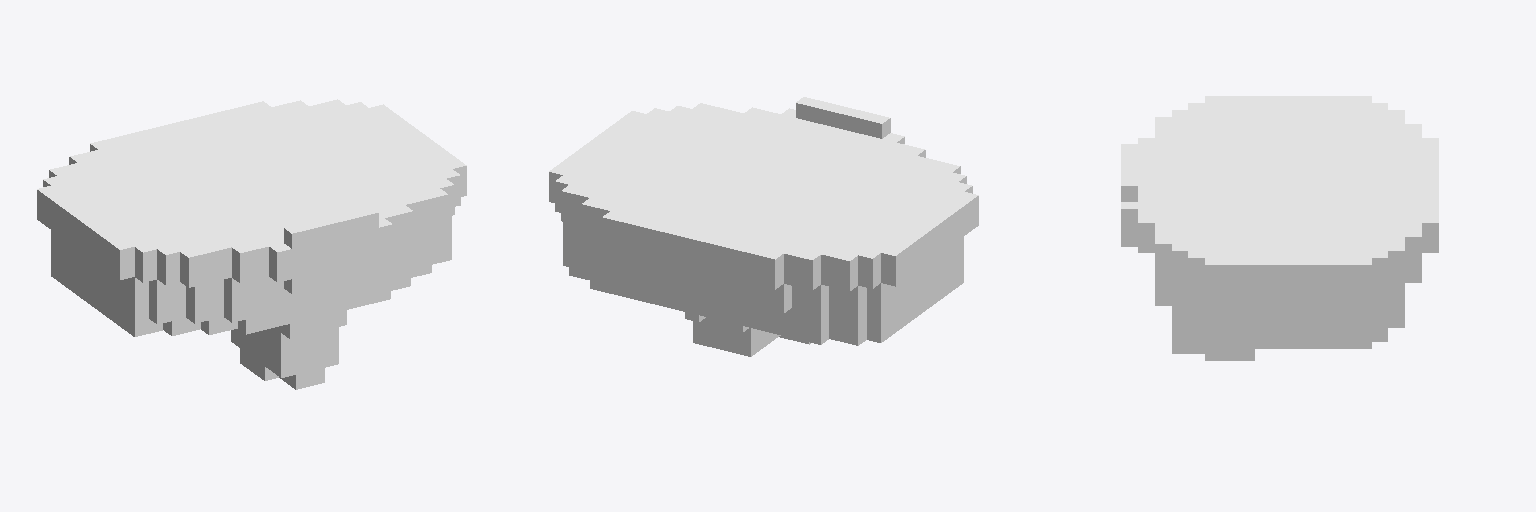
File: Minotaur1-1.obj
3 views of the same model, side by side, from view 1: azimuth 30°, elevation 25°; view 2: azimuth 150°, elevation 25°; view 3: azimuth 270°, elevation 25° (orthographic).
Parts seen in each view (by area): view 1: object 1; view 2: object 1; view 3: object 1.
Part boxes in pixels (left/top/right/bottom): object 1: left=37, top=99, right=466, bottom=389; object 1: left=549, top=97, right=978, bottom=356; object 1: left=1121, top=96, right=1438, bottom=360.
Bounding box in the file's own units: 2.4 × 1.2 × 1.9.